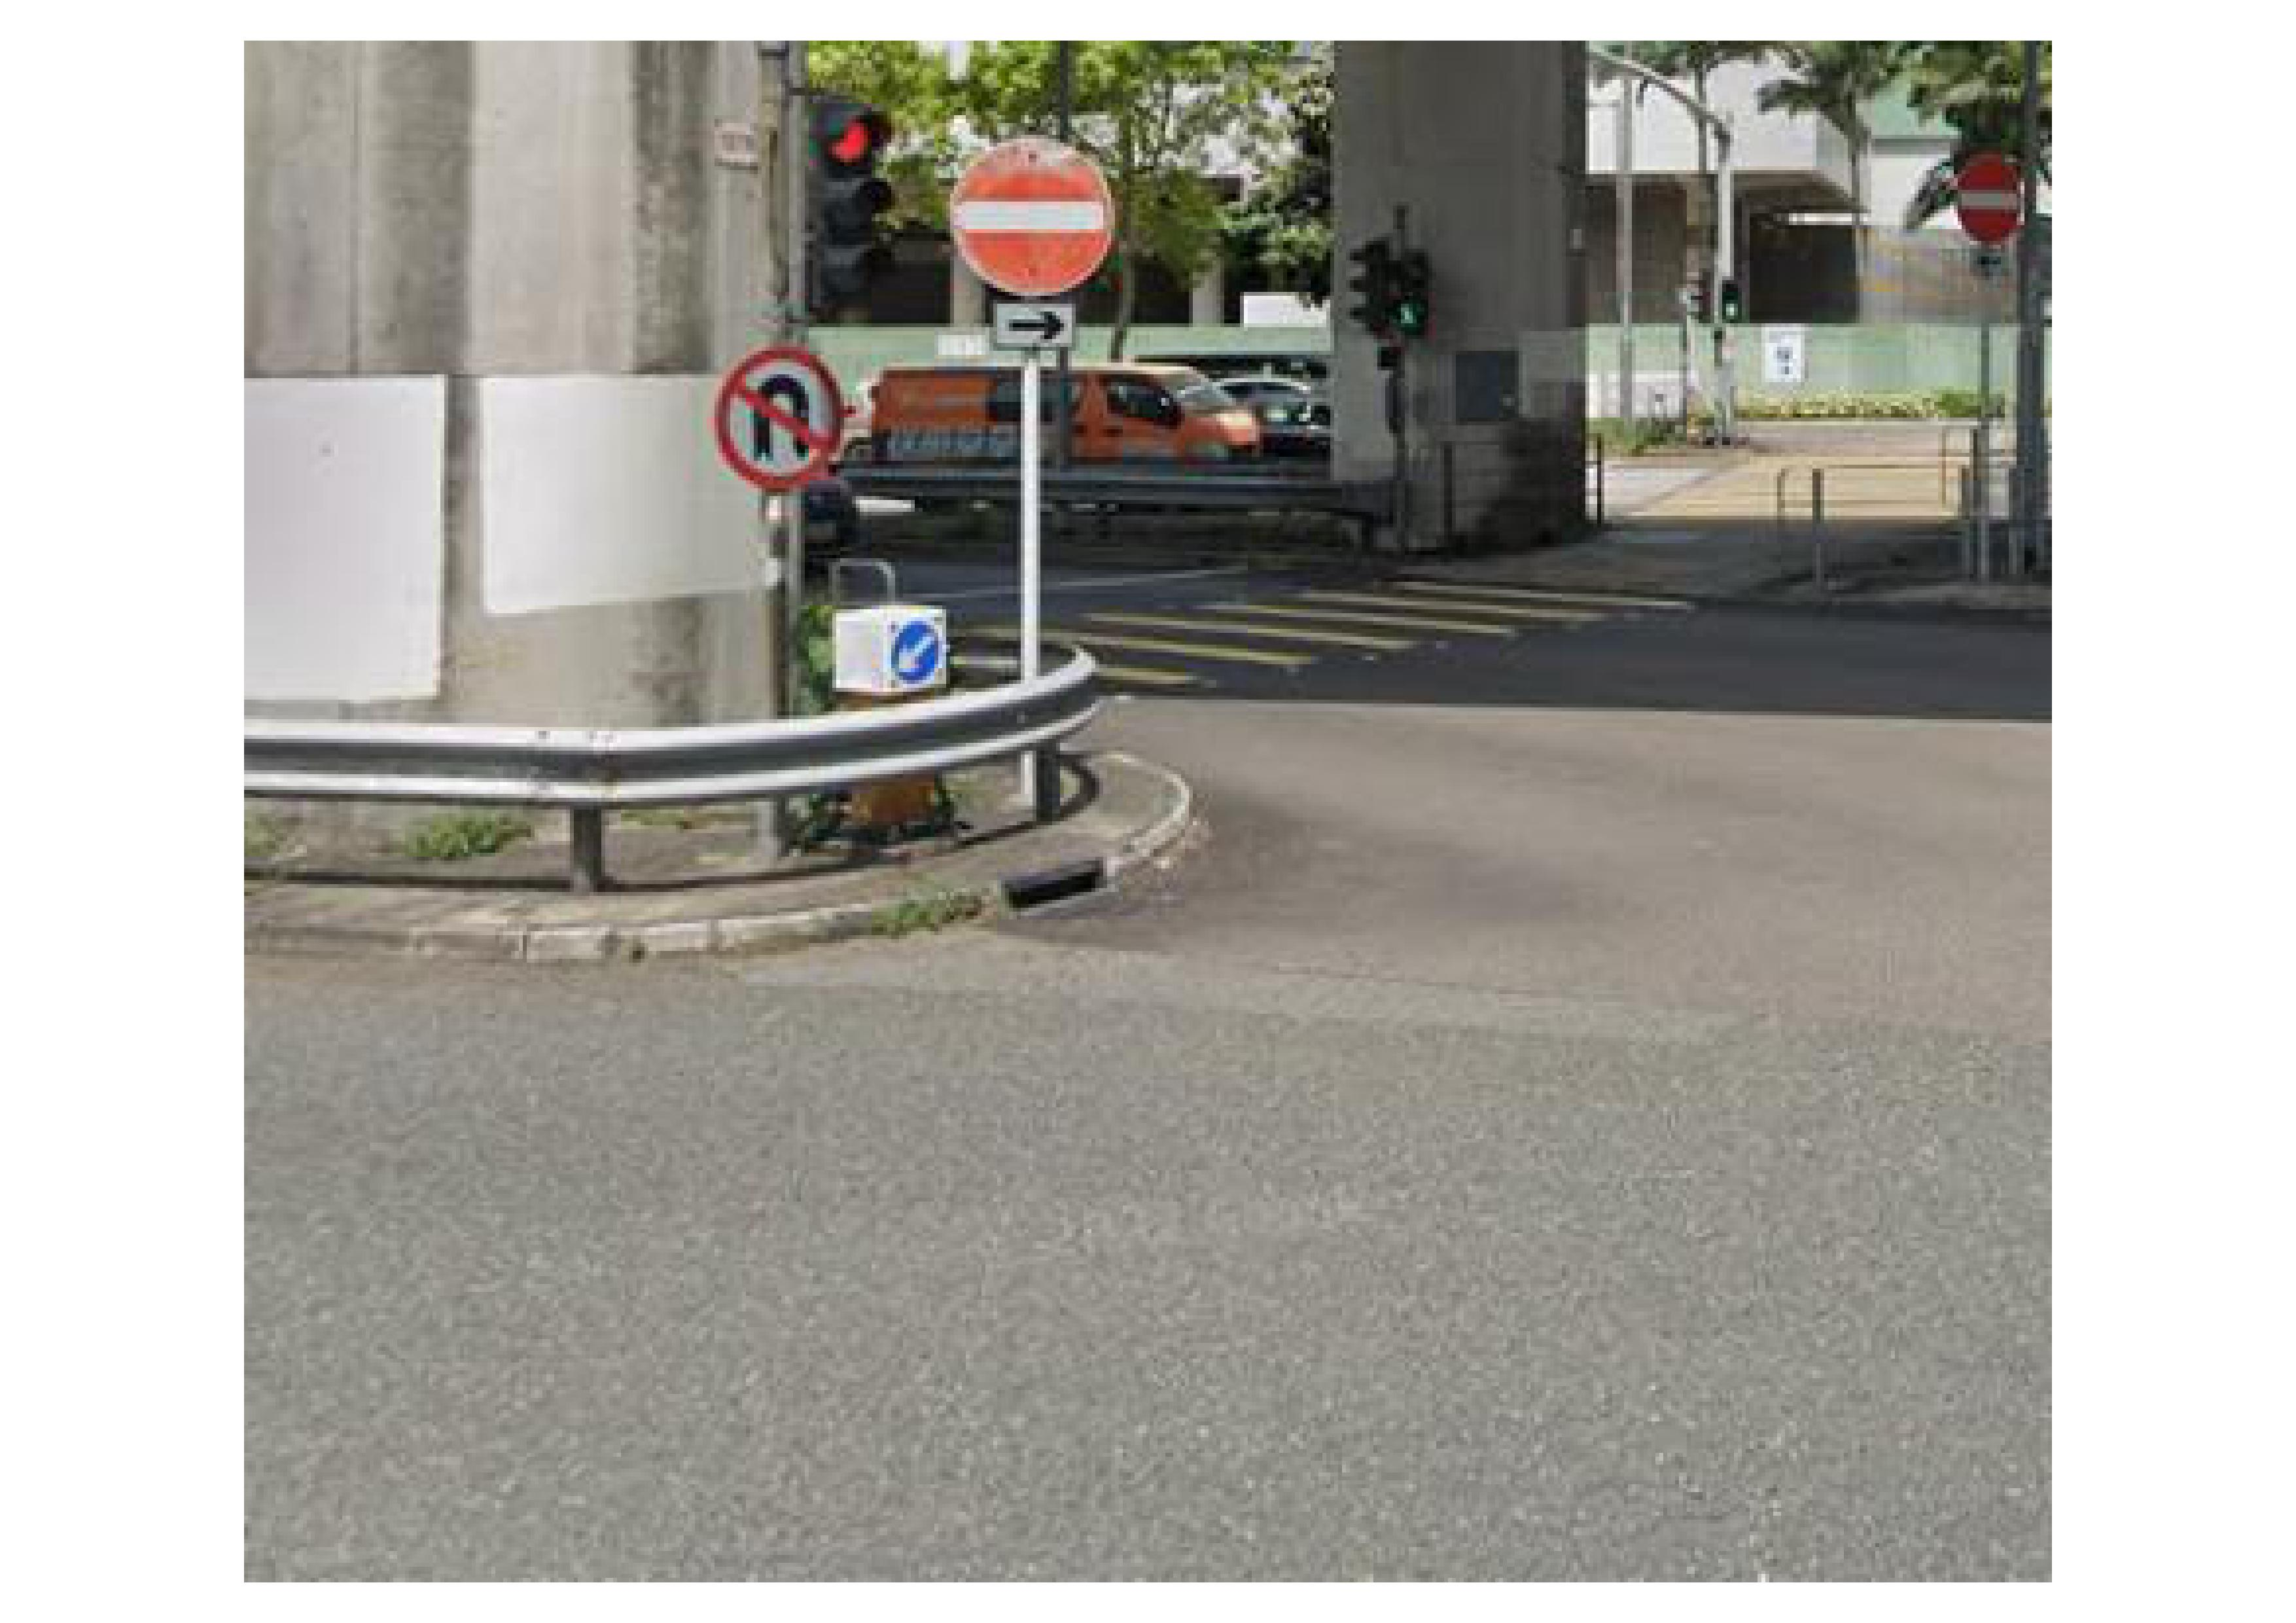No Uturn: (711, 337, 851, 478)
